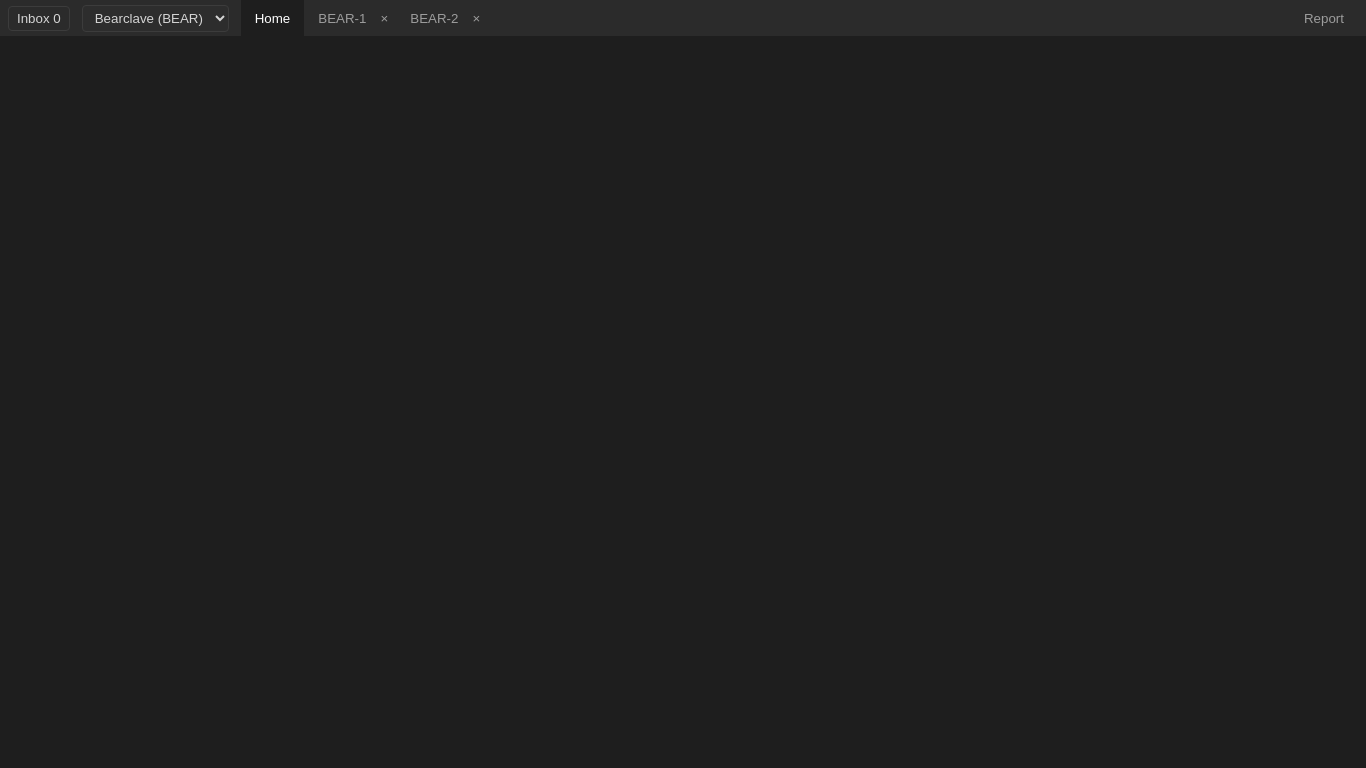
TabBar › Report opens the report form
Click the button "Report" at (1324, 18), box [1290,10,1358,26]
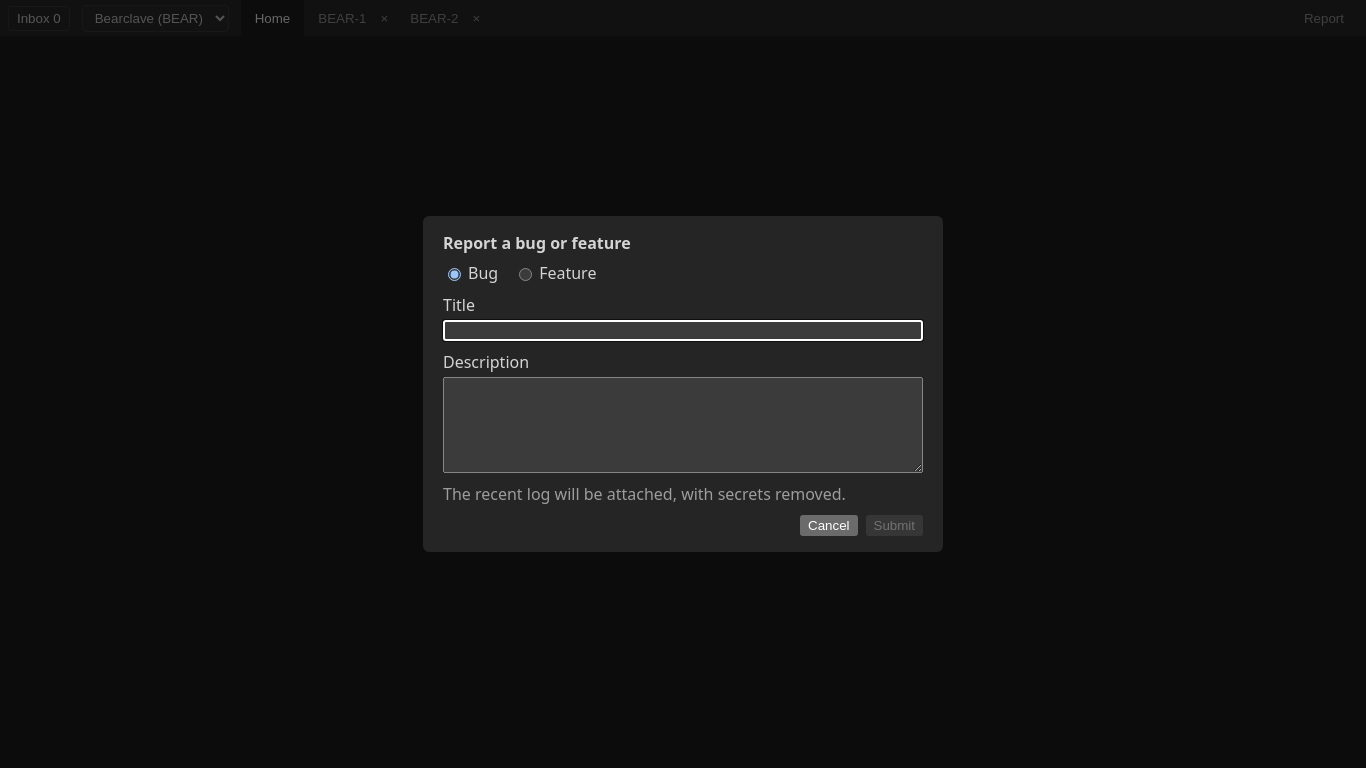
Now the dialog "Report a bug or feature" is shown, box [423,216,943,552]
